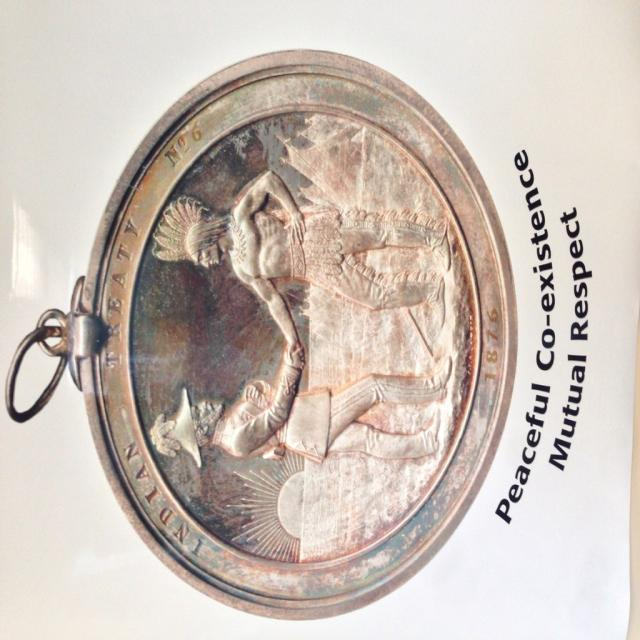Coin: (82, 52, 517, 621)
